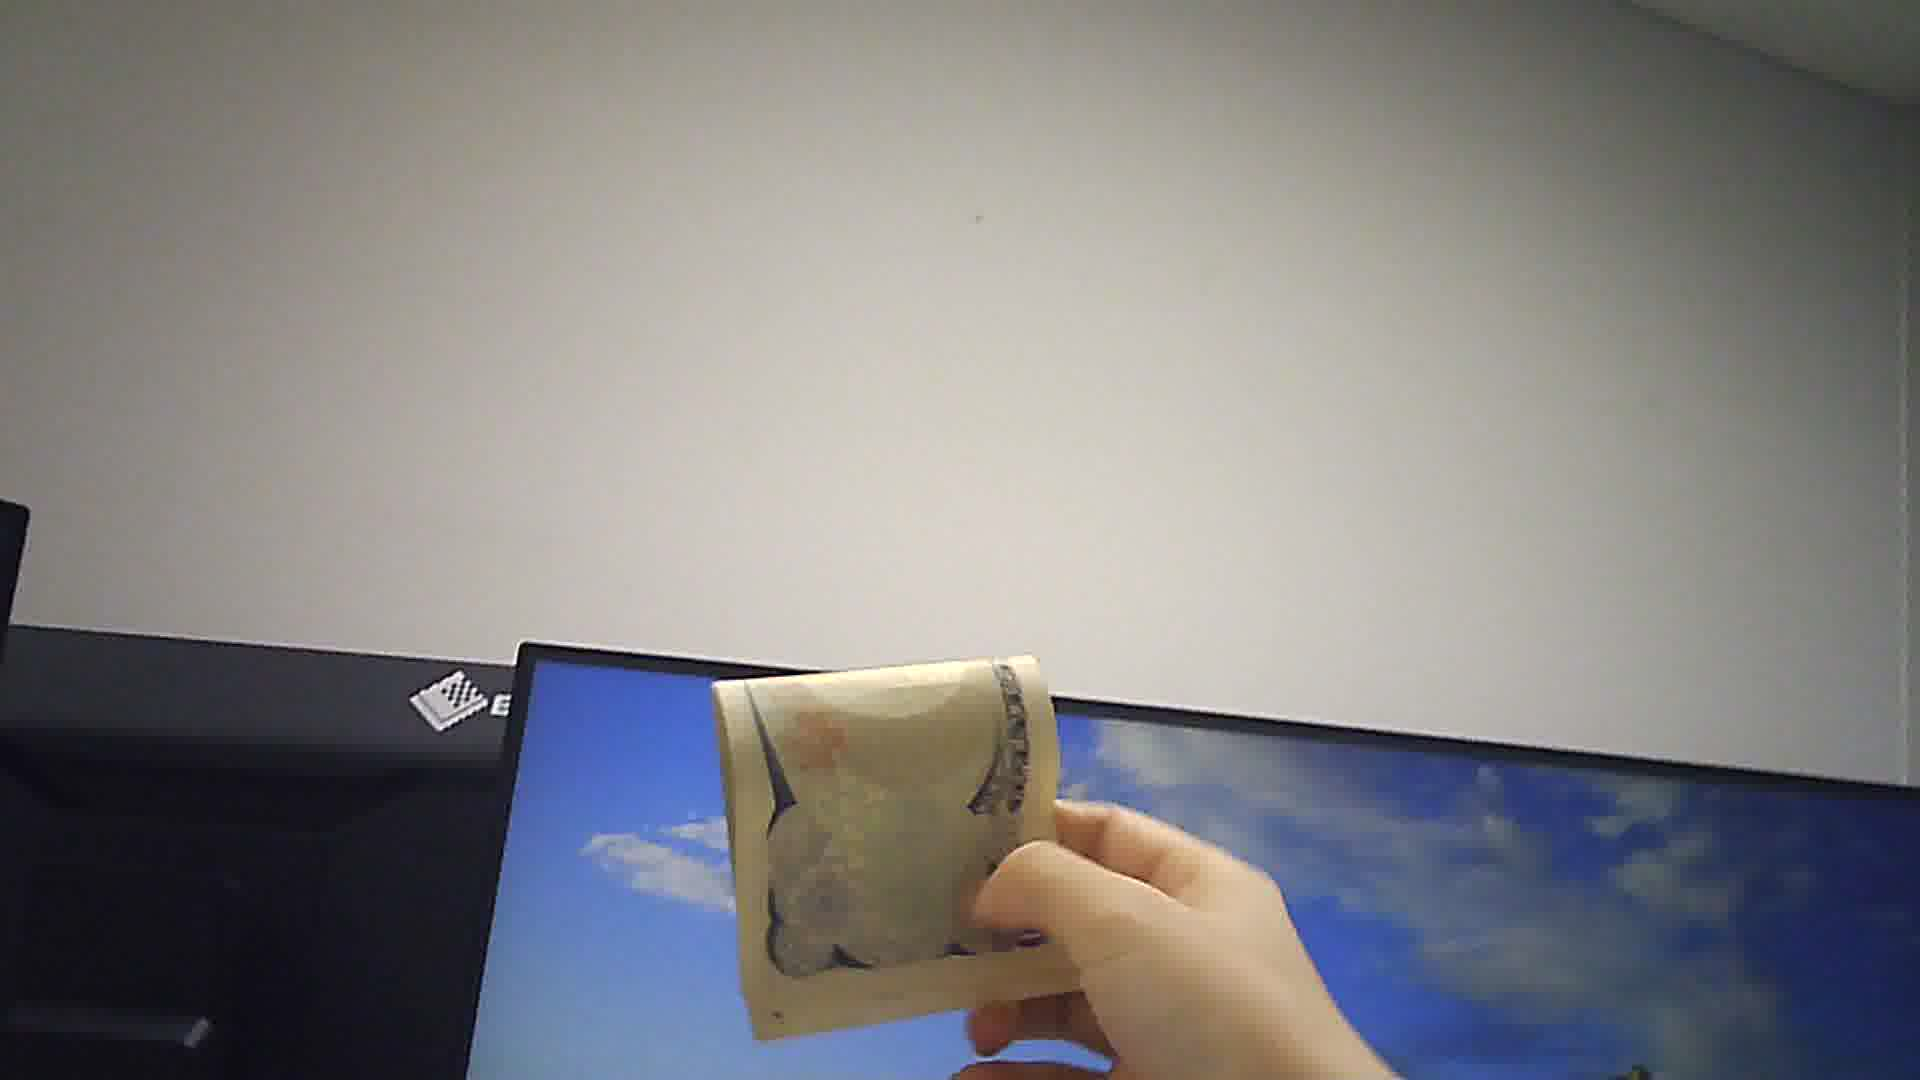1,000 Yen: (716, 644, 1083, 1022)
